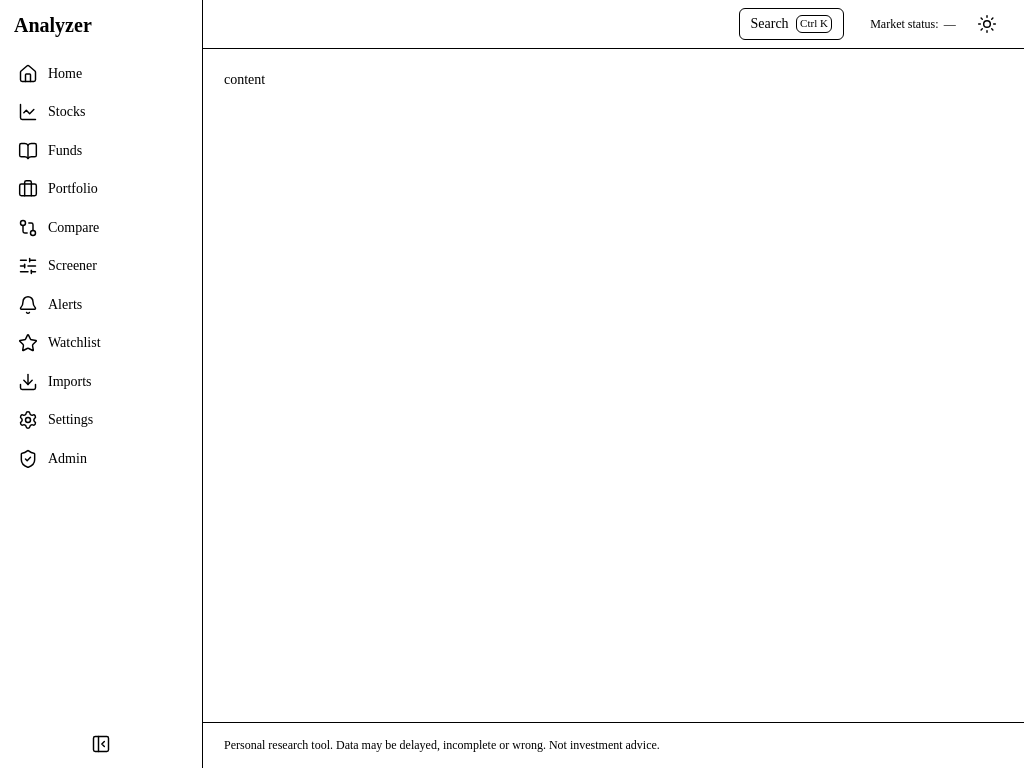
it: shell navigation (docs/06 section 2) › collapses and expands the sidebar and remembers it
Click the button with test id "sidebar-collapse": [101, 744] box x1=7 y1=726 x2=195 y2=761
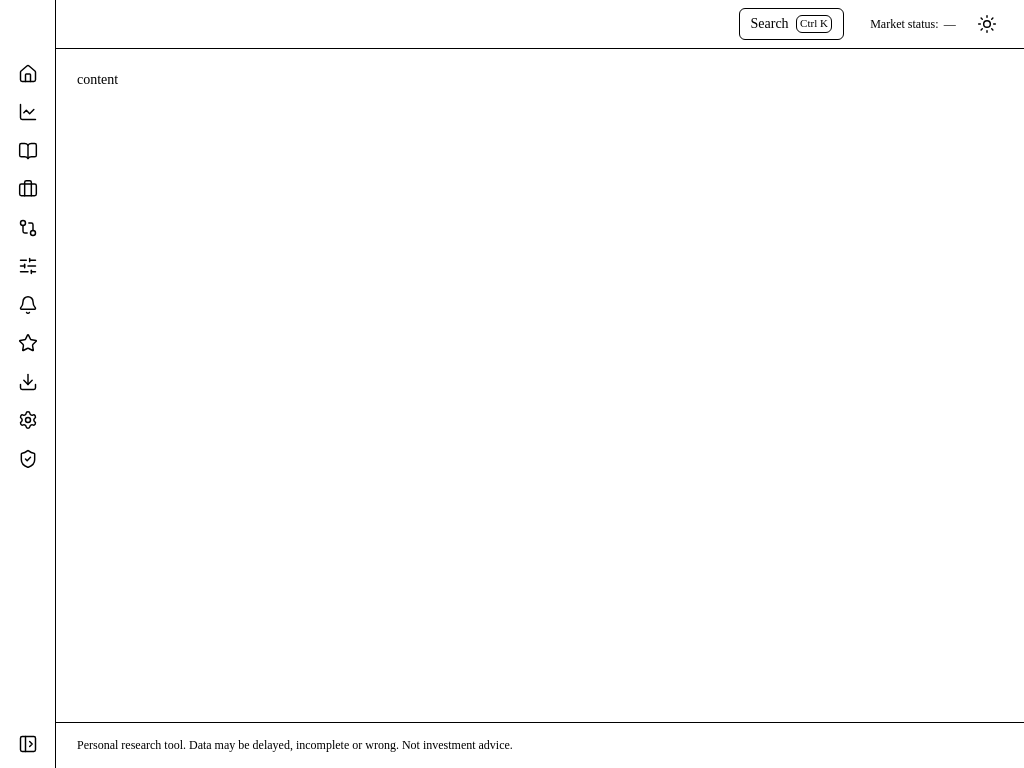
Result: the button with test id "sidebar-collapse" is collapsed at x1=7 y1=726 x2=48 y2=761
